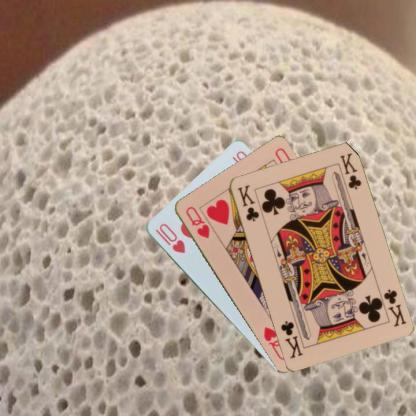10h: (152, 221, 186, 255)
Kc: (380, 287, 408, 328), (235, 182, 260, 223)
Qh: (182, 203, 211, 240)
